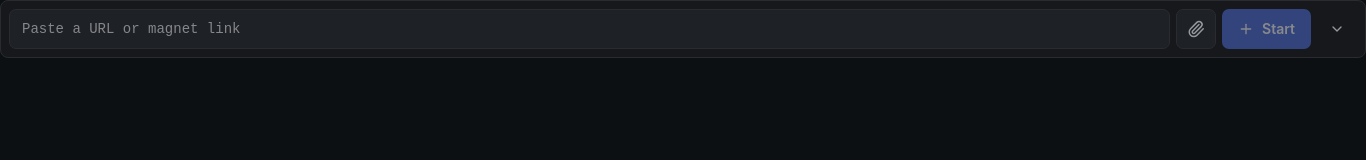
DownloadForm Refactored Suite › preserves source text and options when submission fails
Type "https://example.com/file.zip" into the field with placeholder "Paste a URL or magnet link" at (590, 29), box [9,9,1170,49]
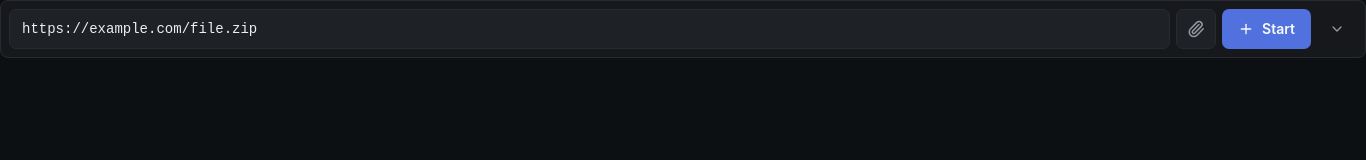
Click the button "Start" at (1267, 29), box [1222,9,1311,49]
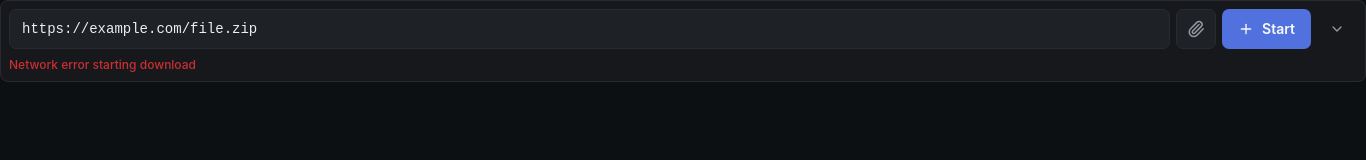
expect the button "Start" is enabled: met, box [1222,9,1311,49]
expect the text "Network error starting download" is shown: met, box [9,57,196,72]
